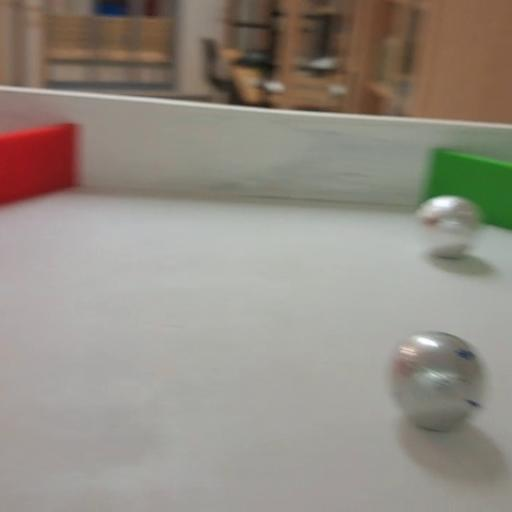alive: (384, 327, 489, 434), (415, 194, 481, 258)
